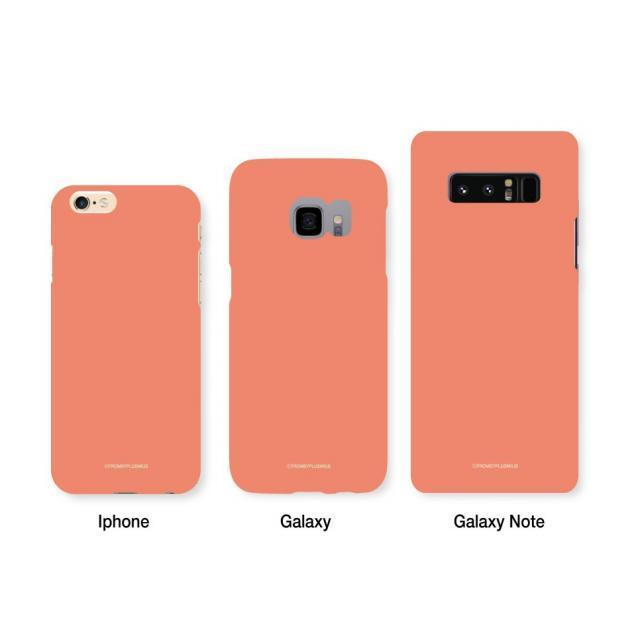phone: (410, 130, 580, 493), (228, 156, 390, 494), (51, 185, 200, 494)
